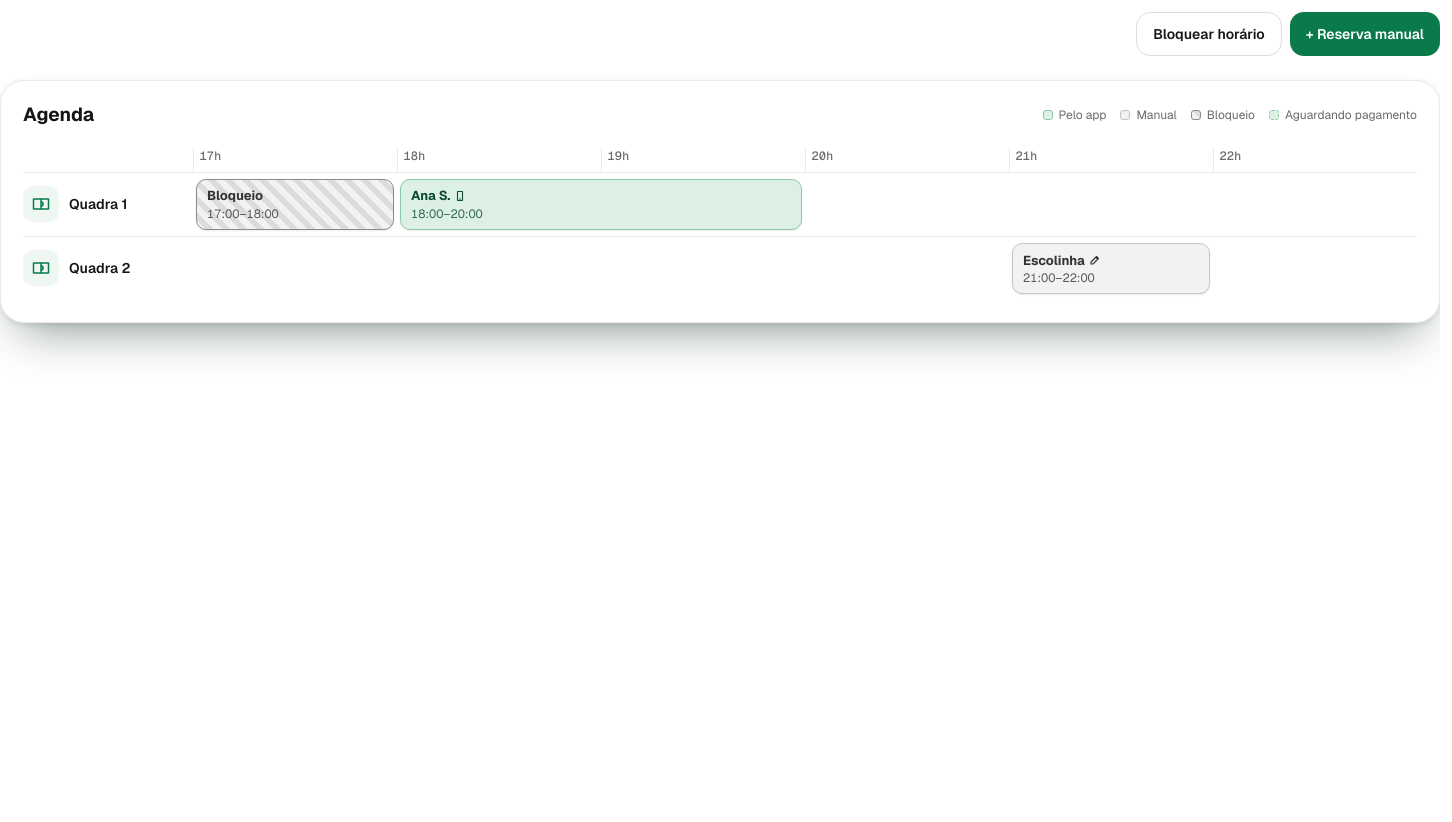
Test: AgendaView (wide) › cancels the selected booking after confirming and refreshes
Click the button named "Quadra 1, 18:00–20:00, reserva de Ana S., pelo app, confirmada" at (431, 196), box [400,178,802,230]
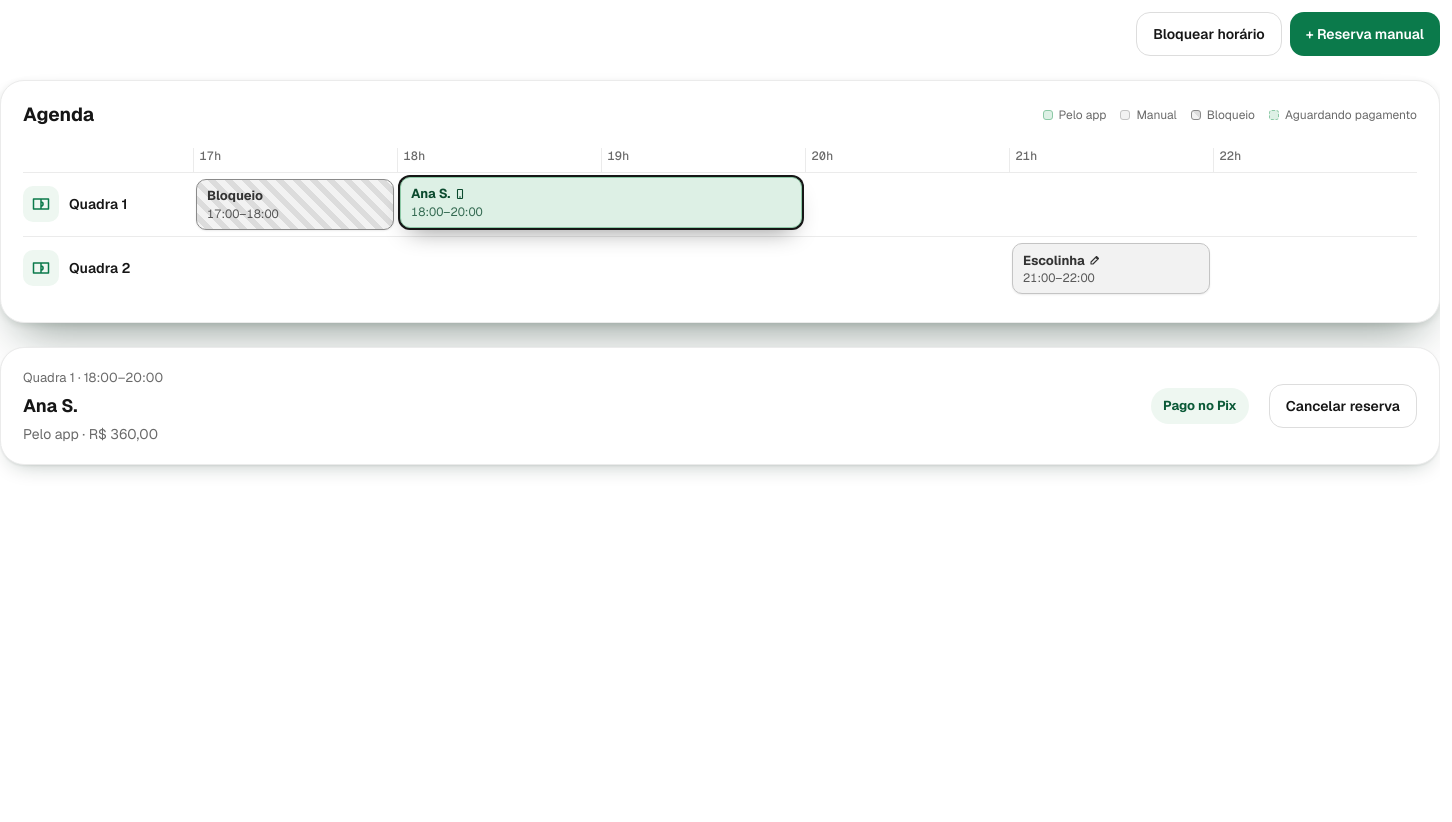
Click the button "Cancelar reserva" at (1343, 406), box [1269,384,1417,428]
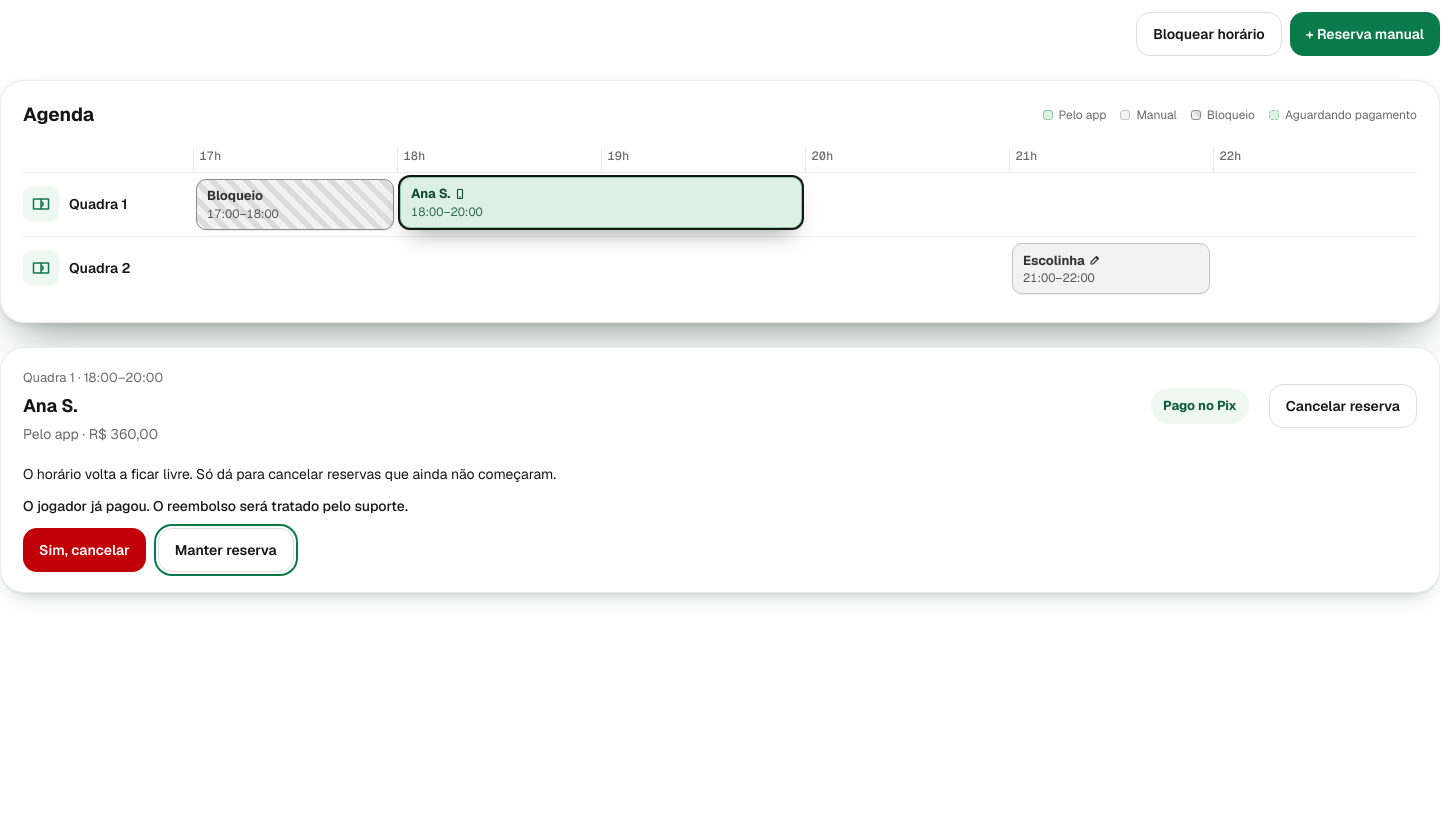
Click the button "Sim, cancelar" at (84, 550), box [23,528,146,572]
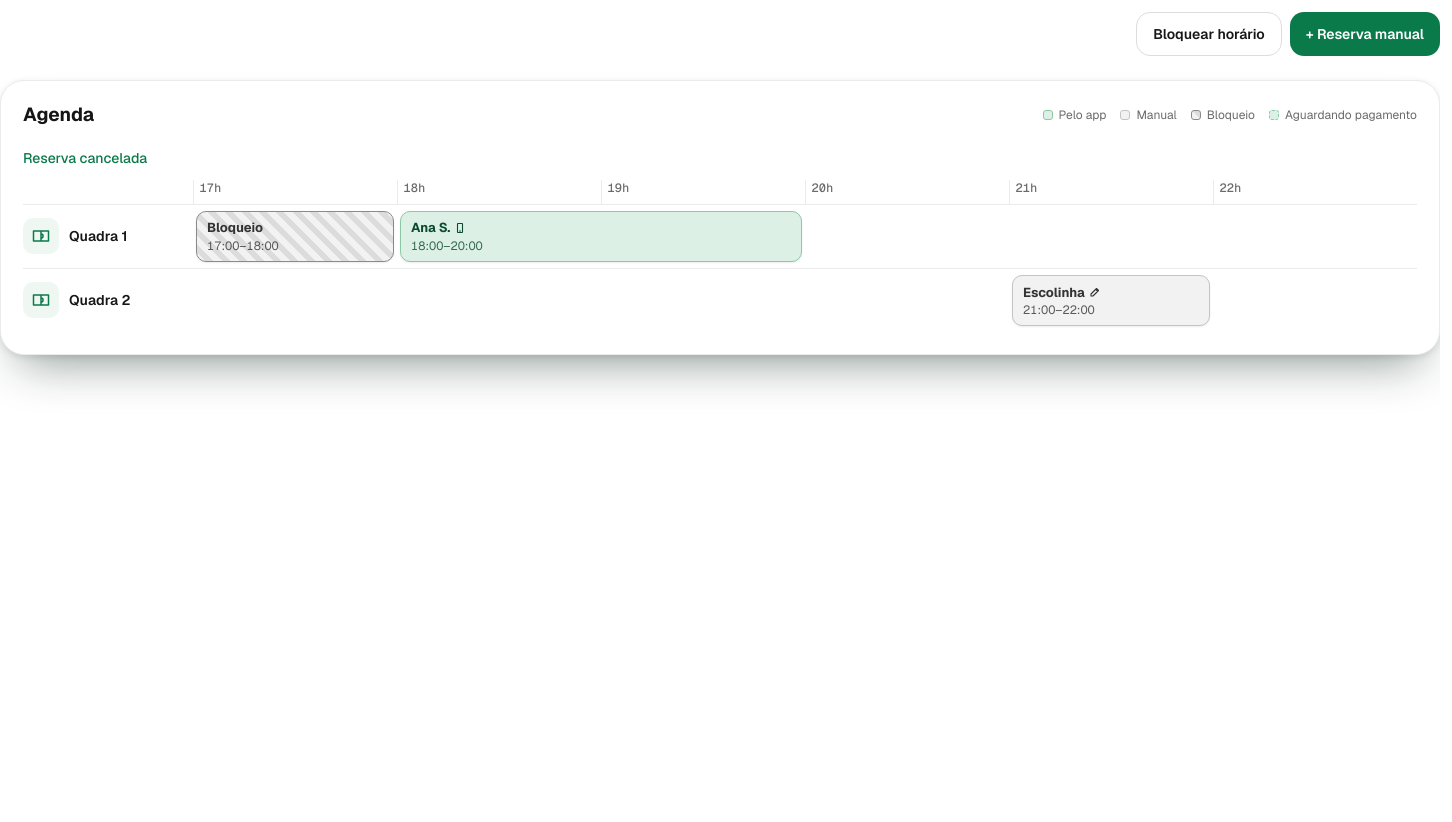
expect the message reads "Reserva cancelada": met, box [23,148,147,166]
